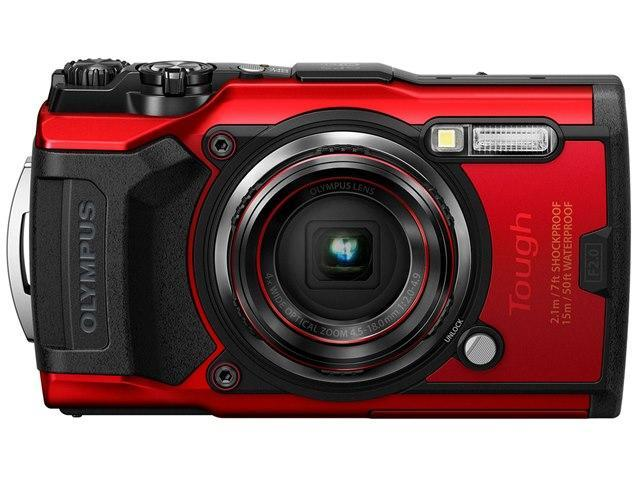degital-camera: (7, 51, 636, 423)
